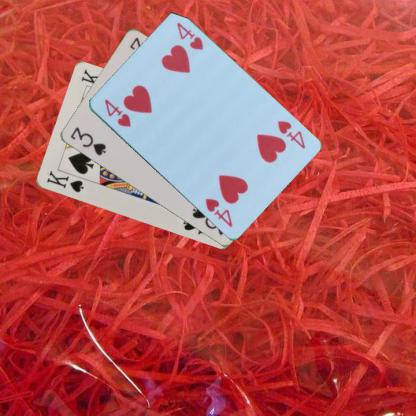3s: (67, 124, 107, 157)
4h: (274, 118, 306, 150), (102, 96, 132, 128)
Ks: (43, 168, 85, 194)
